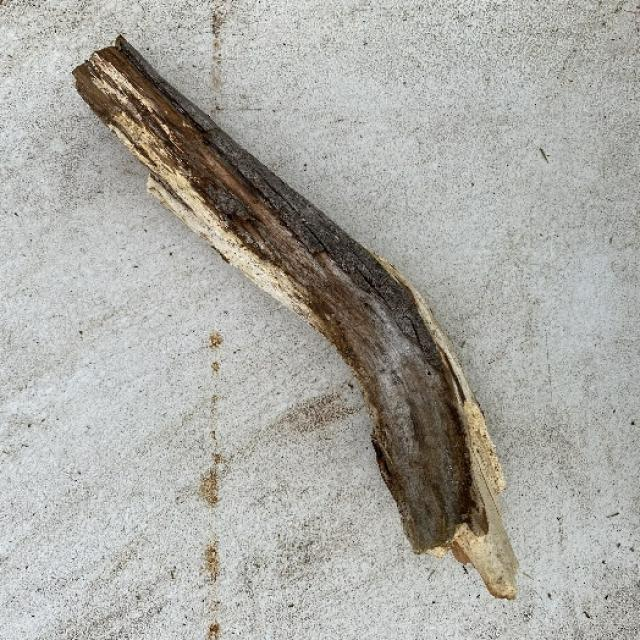organik: (86, 34, 526, 603)
